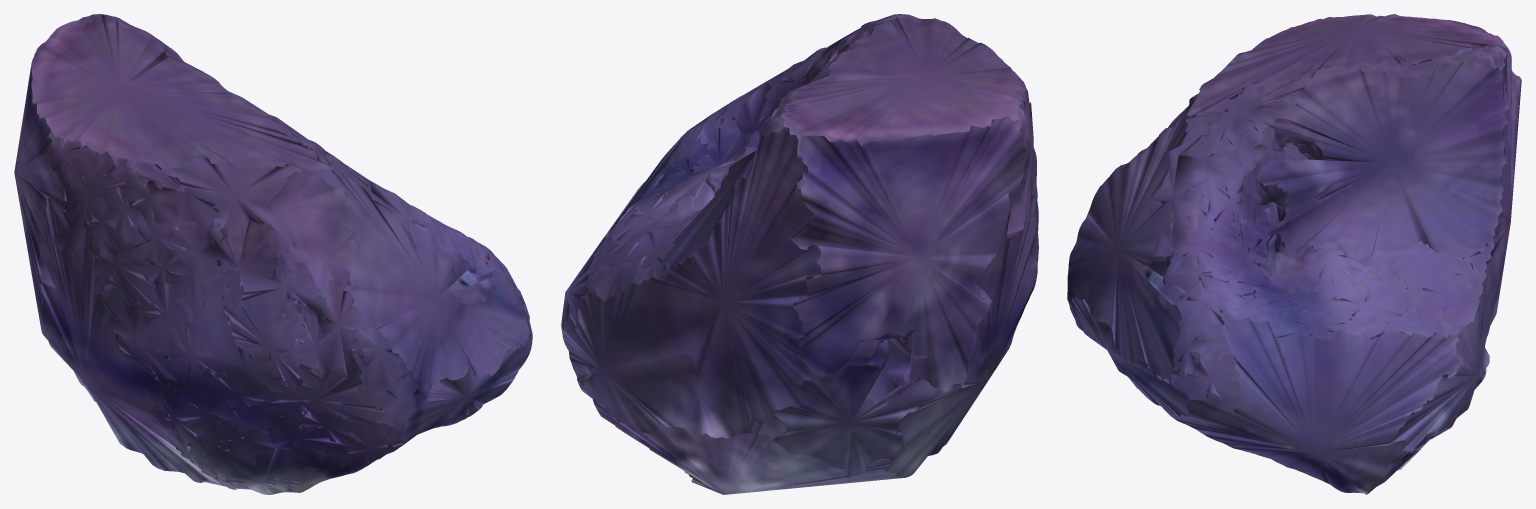
The model's file is 4_armchair.glb.
3 renders of one model, left to right at view 1: azimuth 30°, elevation 25°; view 2: azimuth 150°, elevation 25°; view 3: azimuth 270°, elevation 25°, orthographic. The views are drawn at different scales.
Parts seen in each view (by area): view 1: 4_armchair; view 2: 4_armchair; view 3: 4_armchair.
Part boxes in pixels (bbox=[...]): 4_armchair: bbox=[14, 14, 532, 494]; 4_armchair: bbox=[561, 14, 1038, 494]; 4_armchair: bbox=[1067, 14, 1521, 494].
Bounding box in the file's own units: 1.16 × 1.05 × 1.18.
Materials: 1 (1 with a texture image).
